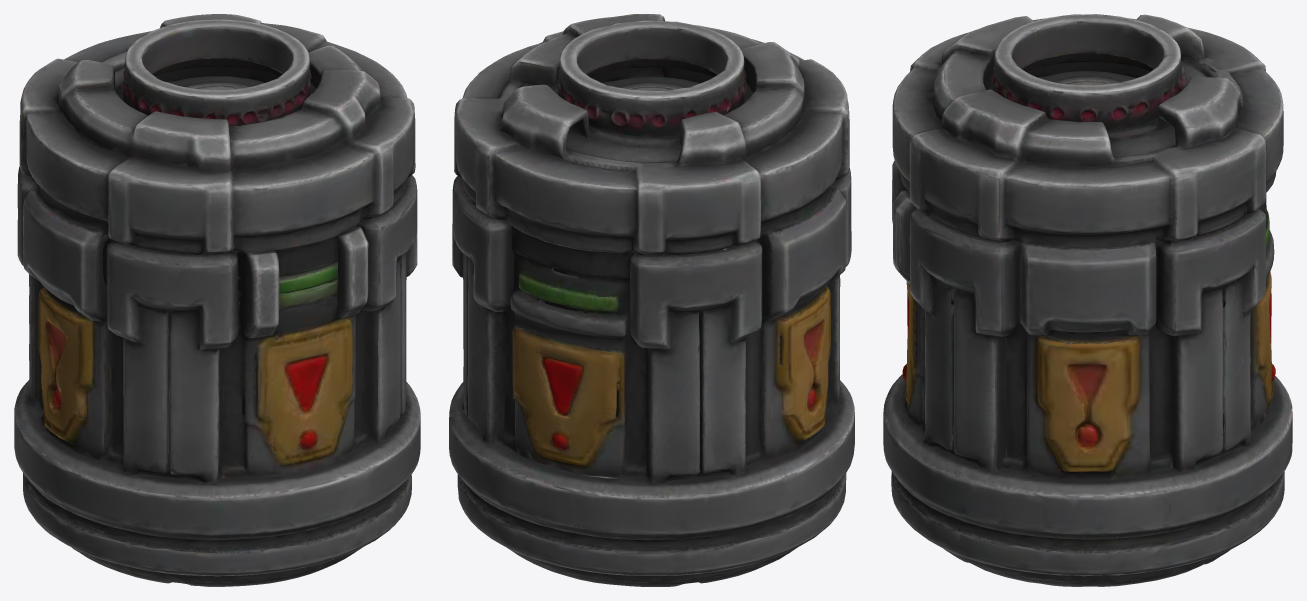
File: BAR1A_2026-08-21T142837.693.glb
3 renders of one model, left to right at view 1: azimuth 30°, elevation 25°; view 2: azimuth 150°, elevation 25°; view 3: azimuth 270°, elevation 25°, orthographic.
Visible parts, largest first — view 1: world; view 2: world; view 3: world.
Part boxes in pixels (left/top/right/bottom): world: left=14, top=14, right=420, bottom=586; world: left=449, top=14, right=854, bottom=586; world: left=883, top=14, right=1292, bottom=586.
Bounding box in the file's own units: 0.7921 × 1 × 0.7917.
Materials: 1 (1 with a texture image).
